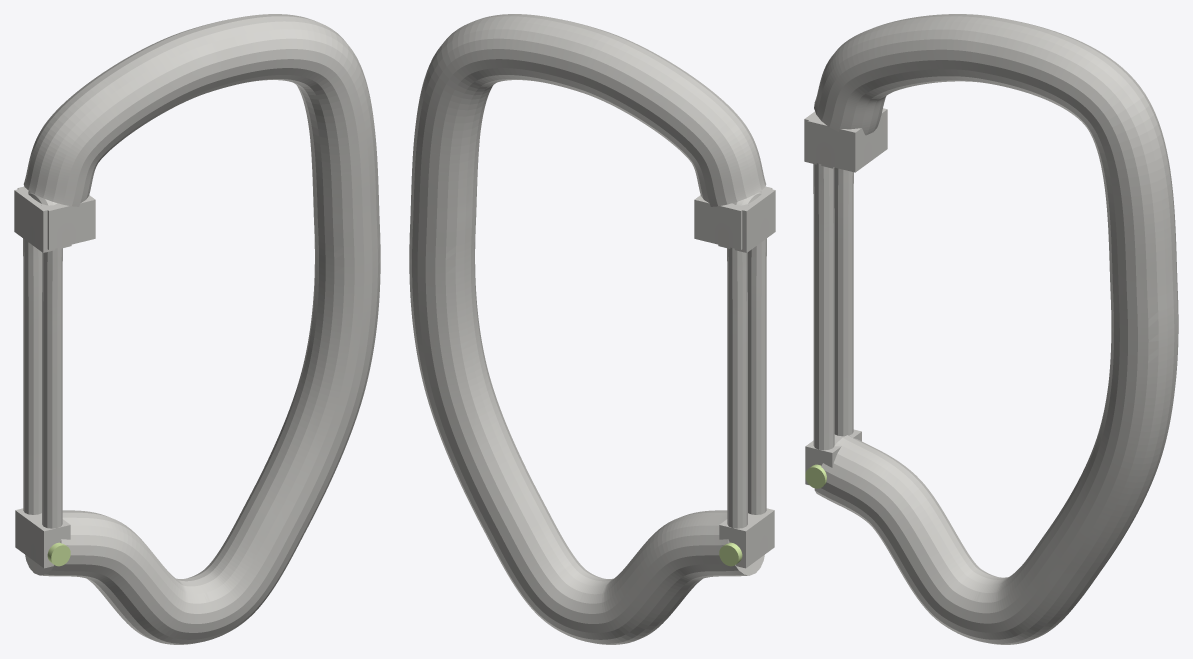
The model's file is Sports_Carabiner__0017.glb.
The picture shows the model from 3 angles, left to right: view 1: azimuth 30°, elevation 25°; view 2: azimuth 150°, elevation 25°; view 3: azimuth 330°, elevation 25°; orthographic projection. The views are drawn at different scales.
Visible parts, largest first — view 1: body::body_loop, gate::wire_loop, body::nose_lug, gate::wire_hinge_plate, gate::wire_latch_tip; view 2: body::body_loop, gate::wire_loop, body::nose_lug, gate::wire_hinge_plate, gate::wire_latch_tip; view 3: body::body_loop, gate::wire_loop, body::nose_lug, gate::wire_hinge_plate.
Part boxes in pixels (x1,y1,x2,y2): body::body_loop: (23,14,380,644); gate::wire_loop: (23,191,62,528); body::nose_lug: (17,186,95,249); gate::wire_hinge_plate: (15,508,70,568); gate::wire_latch_tip: (14,189,71,252); body::body_loop: (409,14,766,644); gate::wire_loop: (727,191,766,528); body::nose_lug: (694,186,772,249); gate::wire_hinge_plate: (719,508,774,568); gate::wire_latch_tip: (718,189,775,252); body::body_loop: (814,14,1178,644); gate::wire_loop: (813,163,853,450); body::nose_lug: (807,108,887,172); gate::wire_hinge_plate: (805,429,861,485).
Bounding box in the file's own units: 0.056 × 0.0936 × 0.01.
2 materials, 1 textured.
